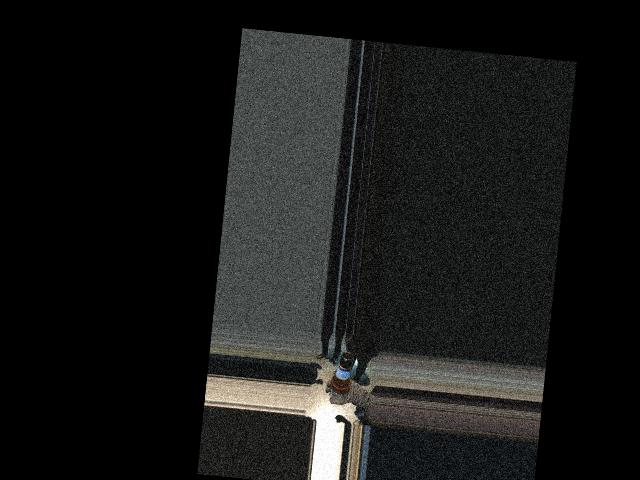beer: (327, 350, 354, 402)
